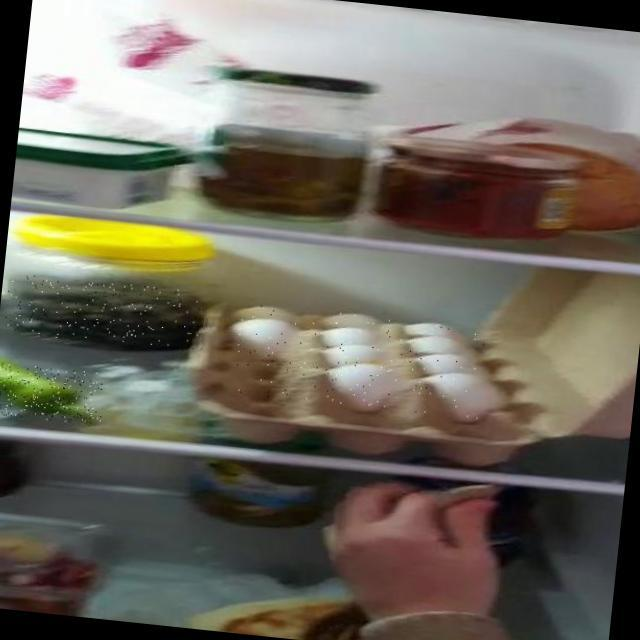Huevos: (228, 301, 487, 419)
green chilies: (0, 362, 105, 425)
olives: (3, 272, 202, 352)
